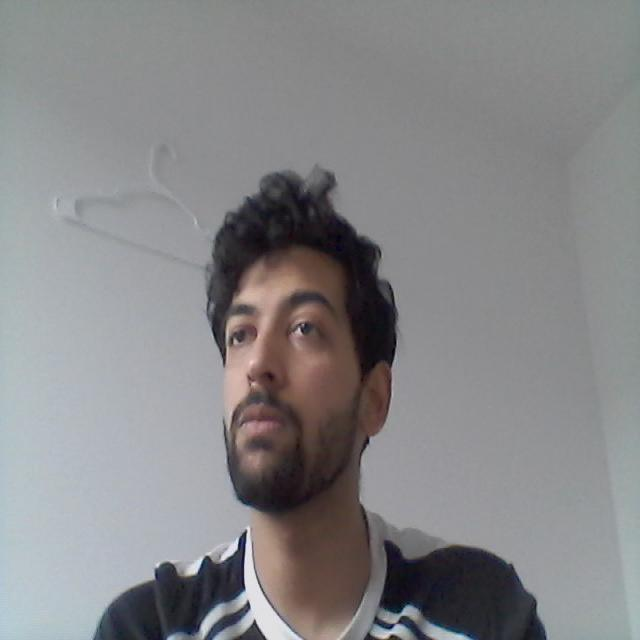nocap: (194, 153, 415, 419)
